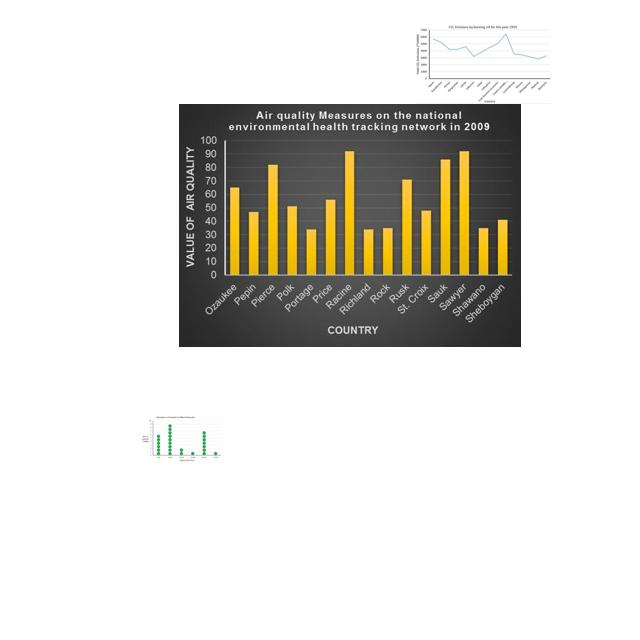Graph: (179, 104, 521, 347), (415, 24, 551, 104), (140, 415, 223, 463)
